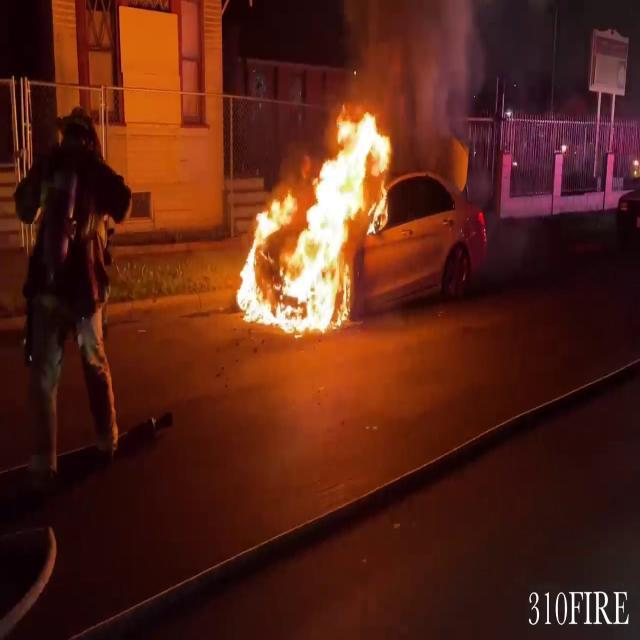Fire: (234, 98, 398, 338)
Smoke: (320, 0, 486, 130)
